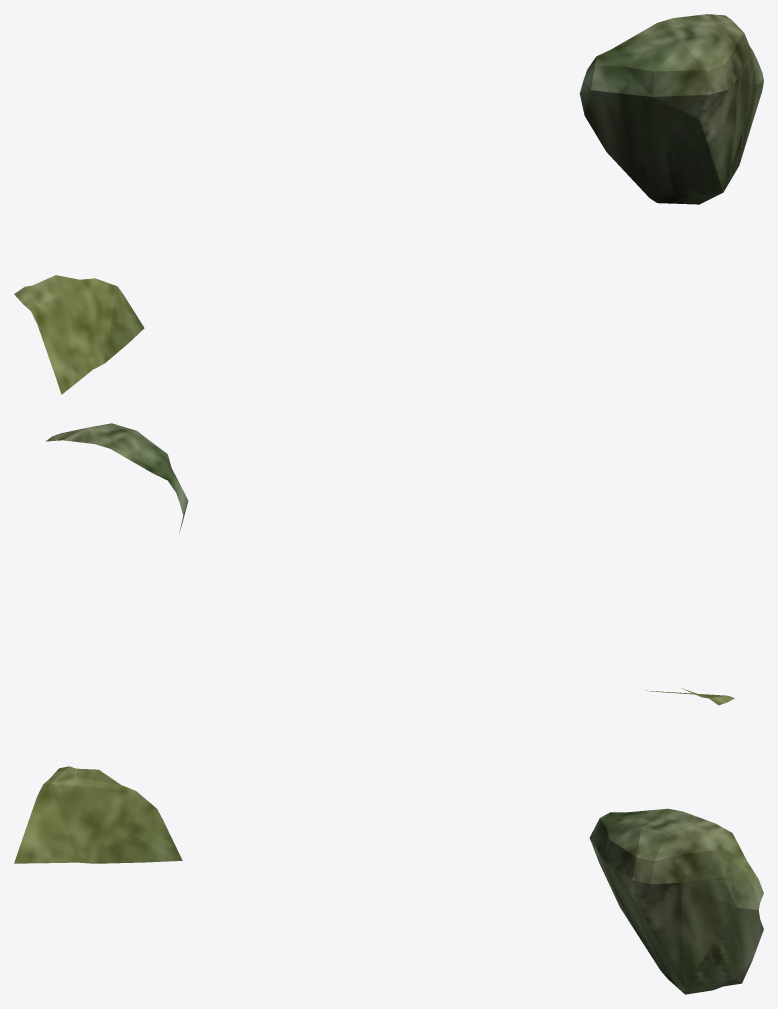
3 views of the same model, one above another, from view 1: azimuth 30°, elevation 25°; view 2: azimuth 150°, elevation 25°; view 3: azimuth 330°, elevation 25° (orthographic). The views are drawn at different scales.
Size of the model in its own units: 2.95 by 0.6881 by 0.3267.
Materials: 1 (1 with a texture image).
